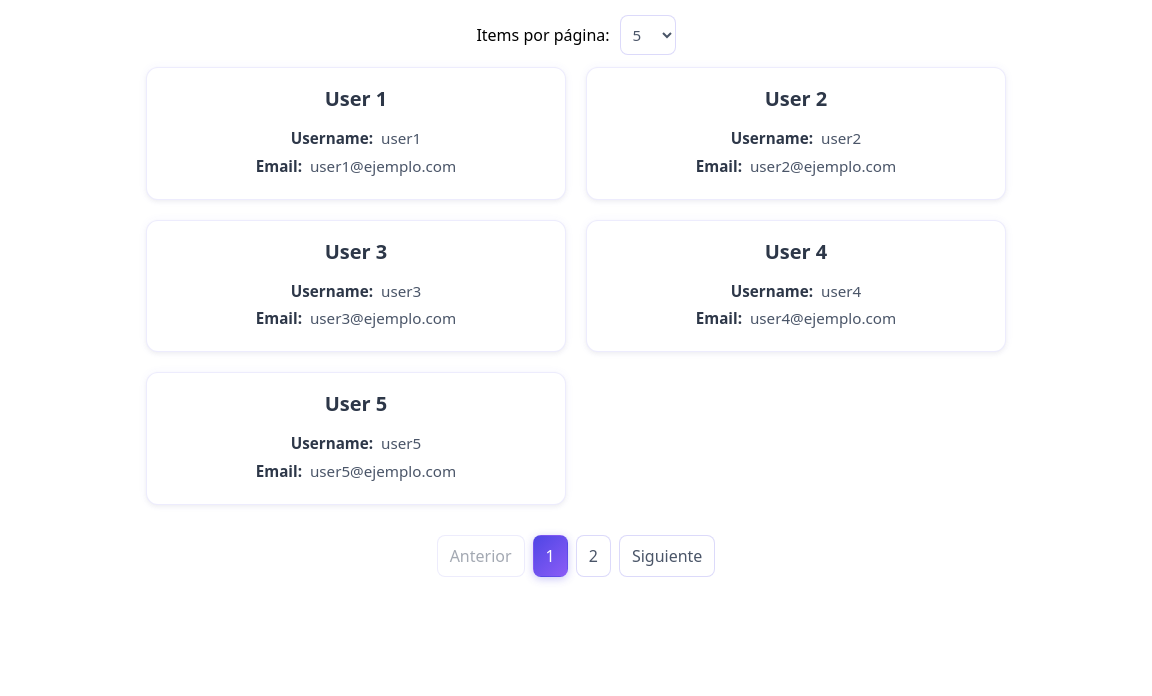
it: Usuarios Component › permite cambiar el número de elementos por página
Expected: the number of elements with class "usuario-card" is 5, [146, 67, 566, 200]; [586, 67, 1006, 200]; [146, 220, 566, 352]; [586, 220, 1006, 352]; [146, 372, 566, 505]
// Cambiar a 10 elementos por página
Select "10" in the dropdown labelled "Items por página:" at (648, 35), box [620, 15, 676, 55]
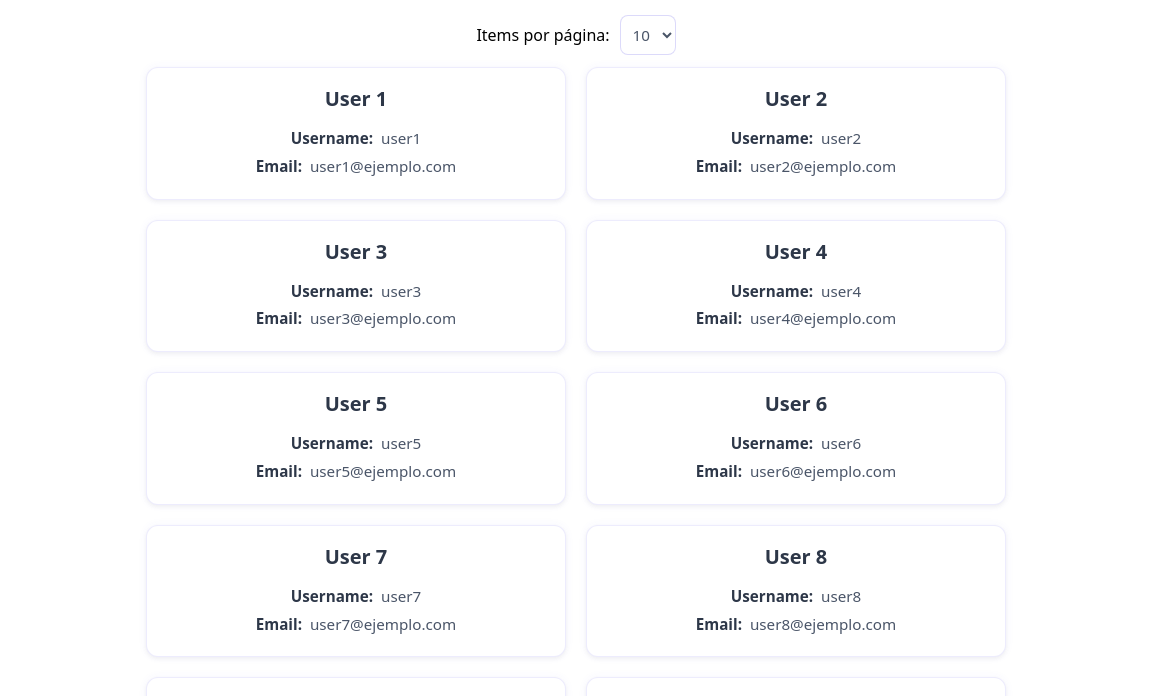
Expected: the number of elements with class "usuario-card" is 10
